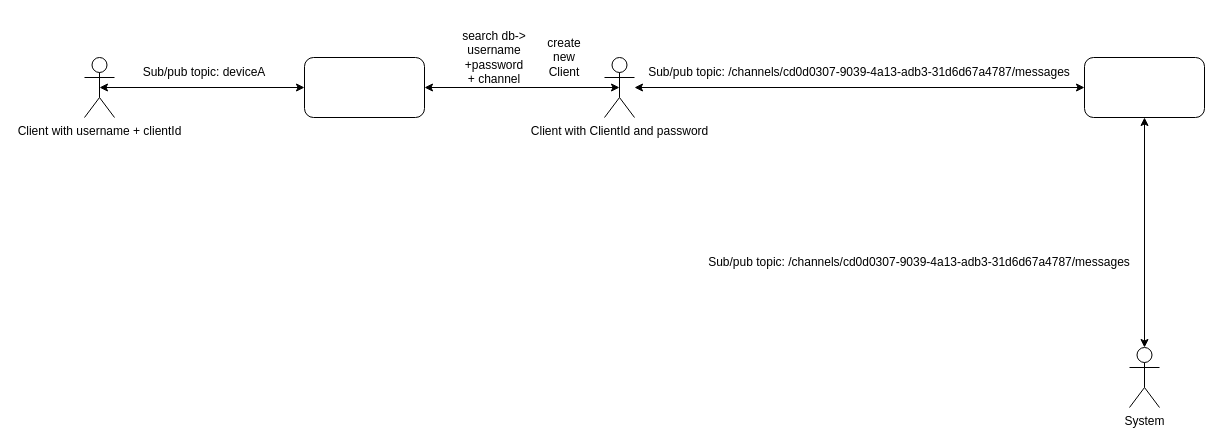
The diagram is 1222 pixels wide and 445 high, and some of its shapes have lost their labels. The centre of each missing label's shape, as x and y in pixels:
MQTT Adapter: [1144,87]
Node Adapter: [364,87]
